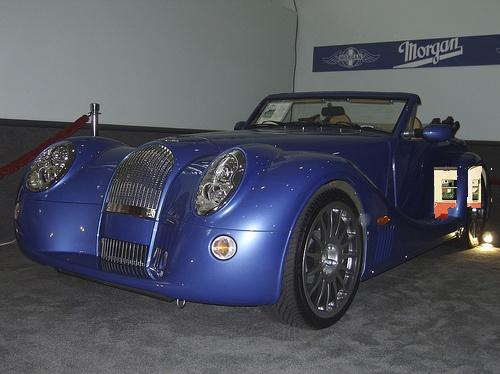tampered: (435, 167, 492, 219)
